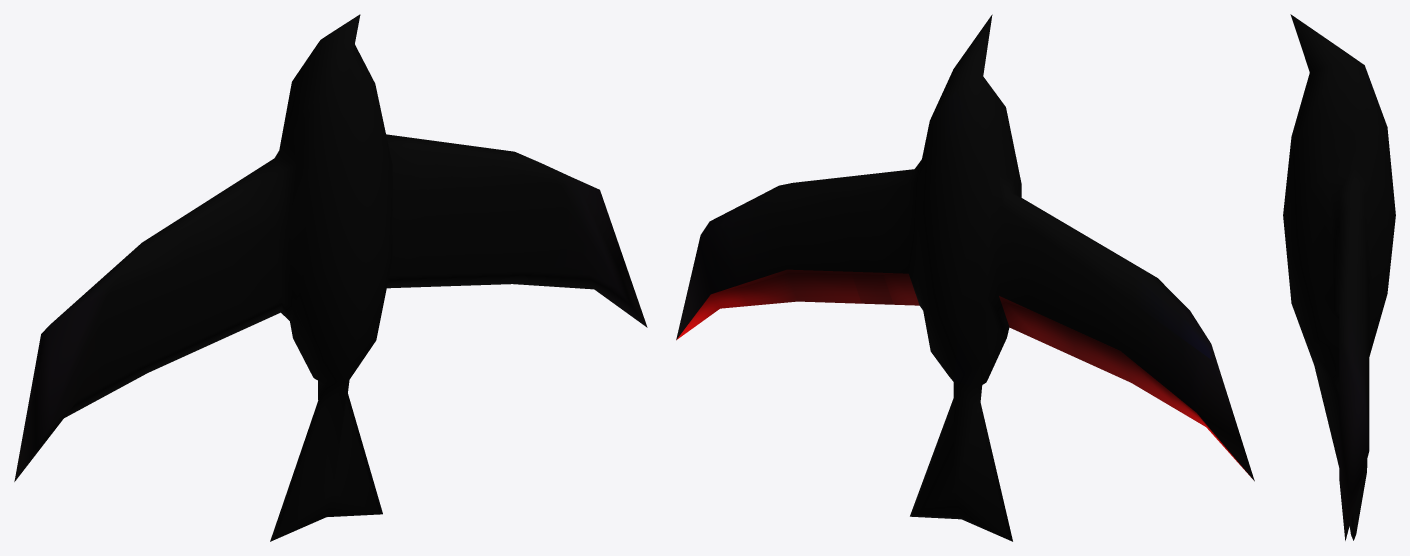
The model's file is Bird.fbx.
The picture shows the model from 3 angles, left to right: view 1: azimuth 30°, elevation 25°; view 2: azimuth 150°, elevation 25°; view 3: azimuth 270°, elevation 25°; orthographic projection. The views are drawn at different scales.
Parts seen in each view (by area): view 1: Bird; view 2: Bird; view 3: Bird.
Boxes of the visible parts, x1,y1,x2,y2 form: Bird: (14,14,647,541); Bird: (676,14,1254,541); Bird: (1283,14,1395,540).
Size of the model in its own units: 752 by 612 by 125.
